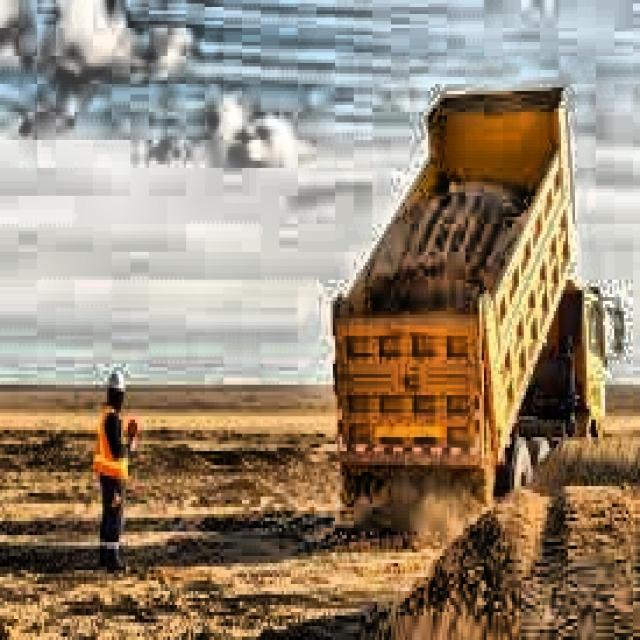dump_truck: (336, 86, 622, 529)
